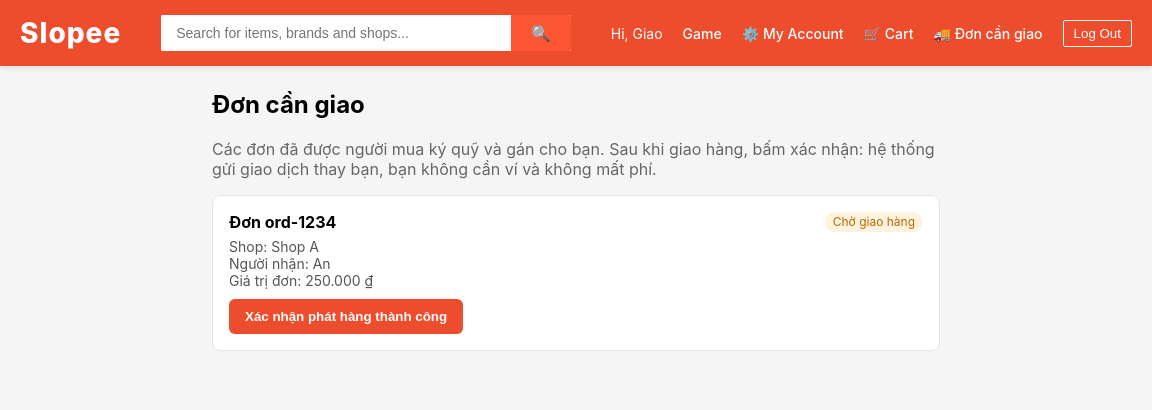
Test: ShipperOrders (UC-03) › lỗi API (INVALID_STATE) hiện thông báo tiếng Việt và cho thử lại
Click the button "Xác nhận phát hàng thành công": (346, 316) [229,299,463,334]
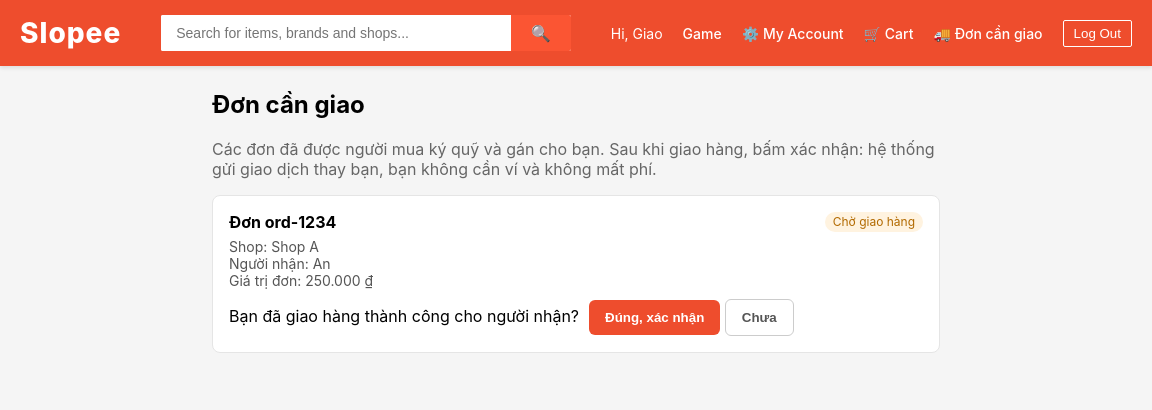
Click the button "Đúng, xác nhận": (655, 317) [589,300,720,335]
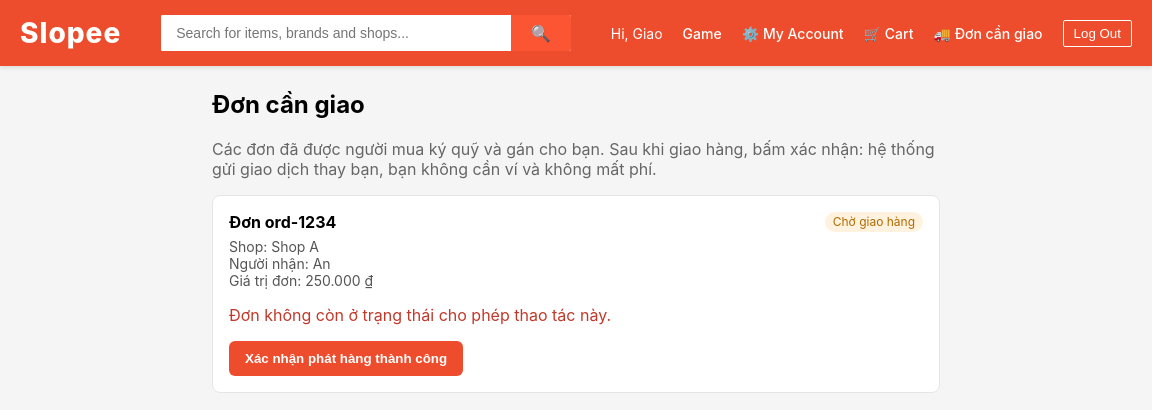
Check: the message shows "không còn ở trạng thái", box [229,305,611,325]
Check: the button "Xác nhận phát hàng thành công" is enabled, box [229,341,463,376]
